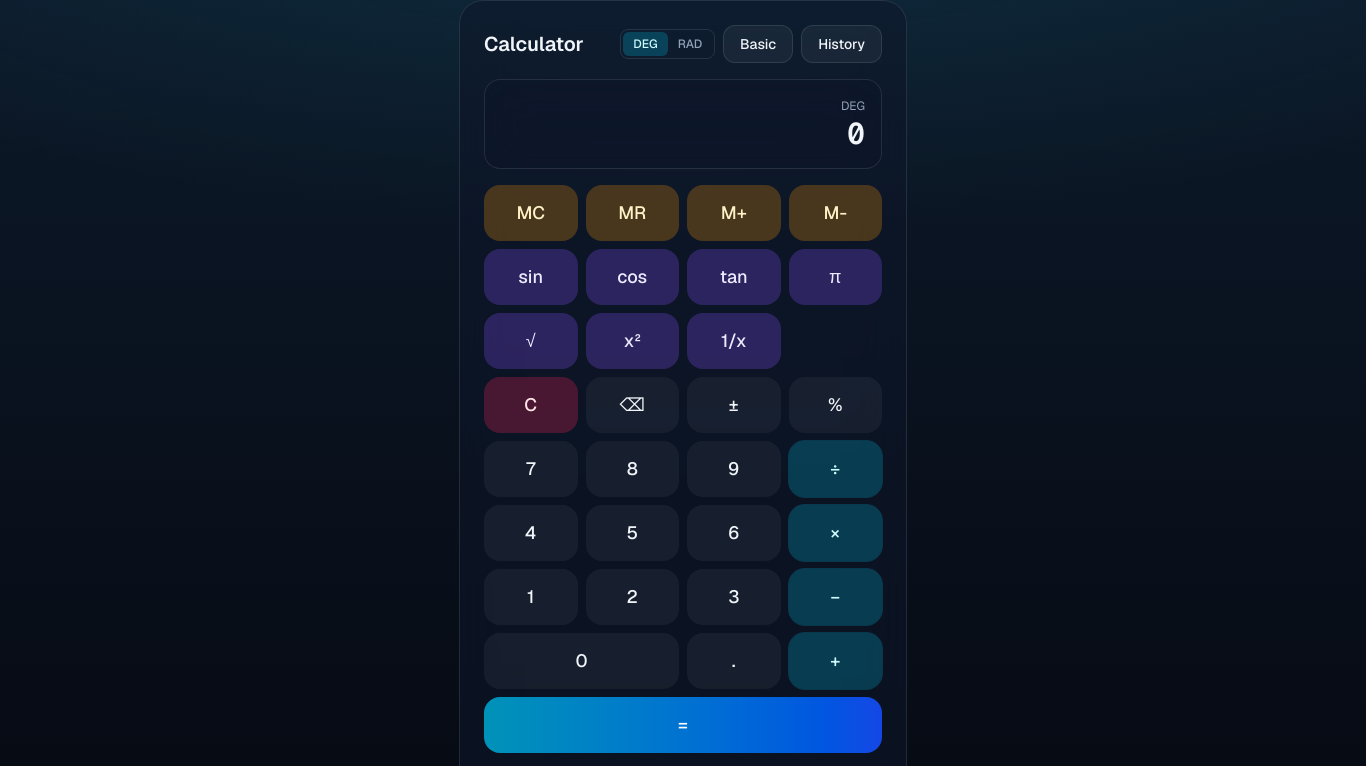
it: Calculator › shows error on division by zero
Click the button "8": (632, 469) [586, 441, 679, 497]
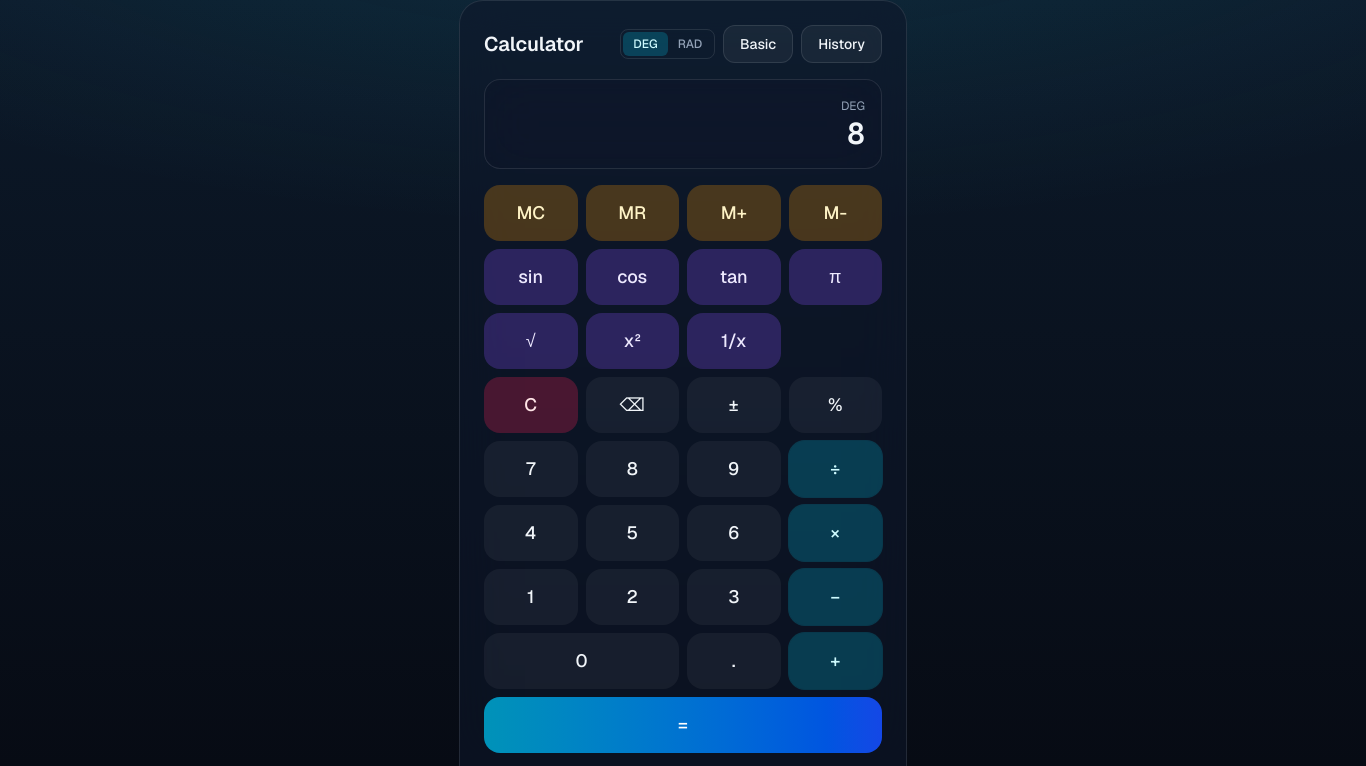
Click the button "÷": (835, 469) [788, 441, 882, 497]
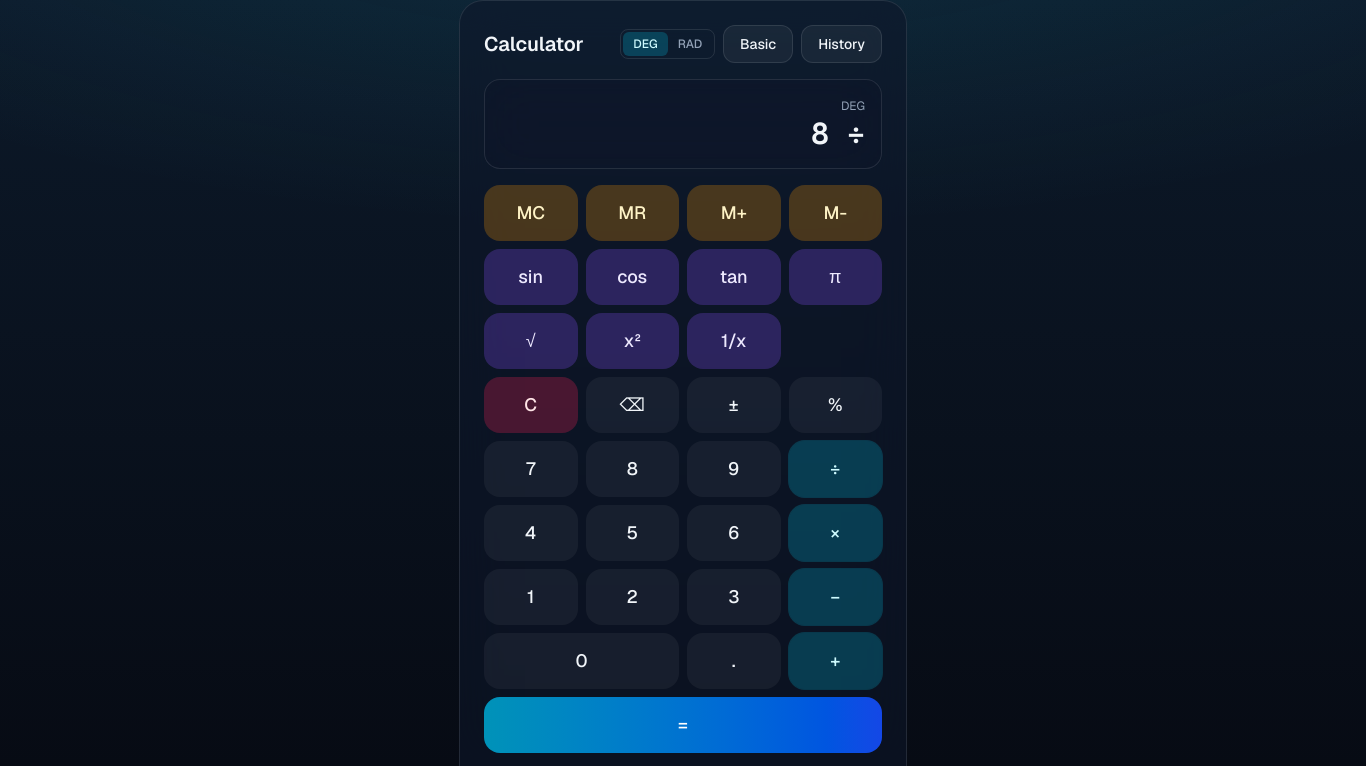
Click the button "0": (582, 661) [484, 633, 679, 689]
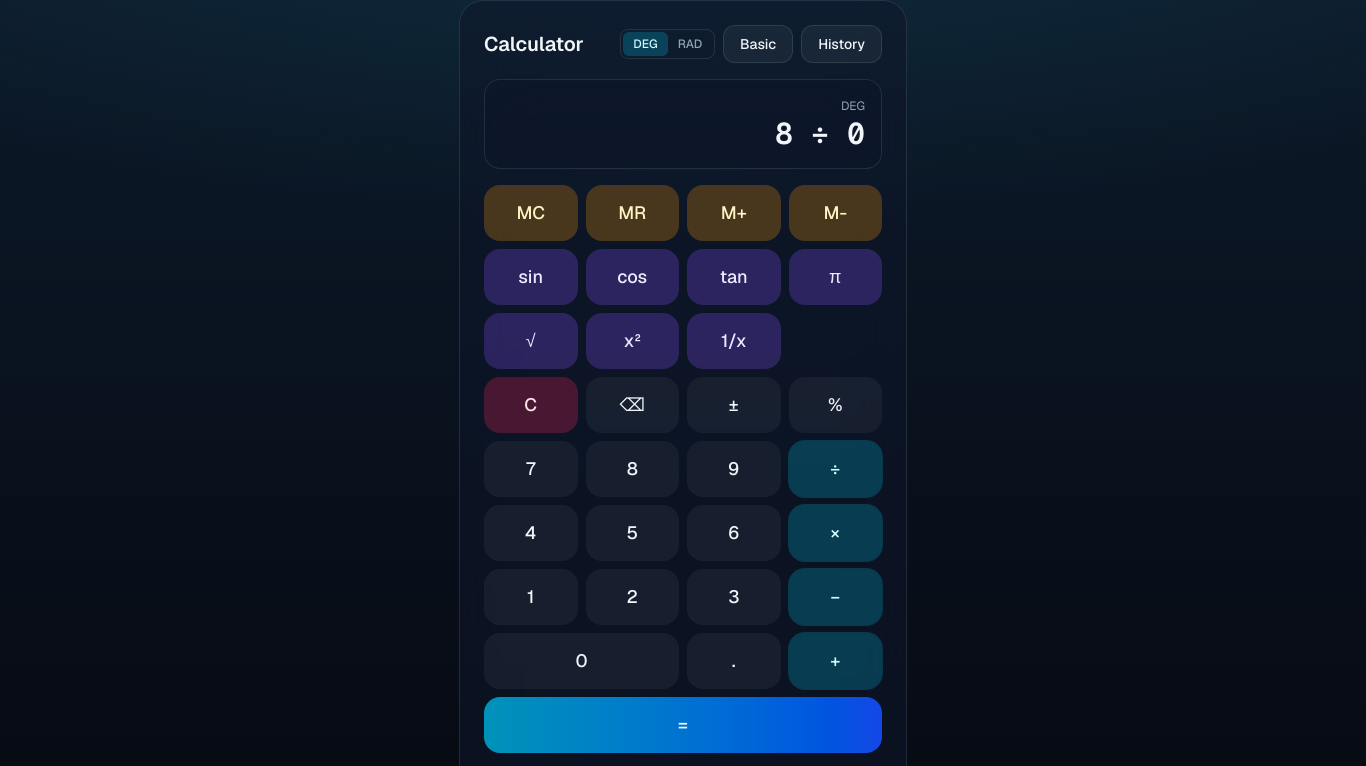
Click the button "=": (683, 725) [484, 697, 882, 753]
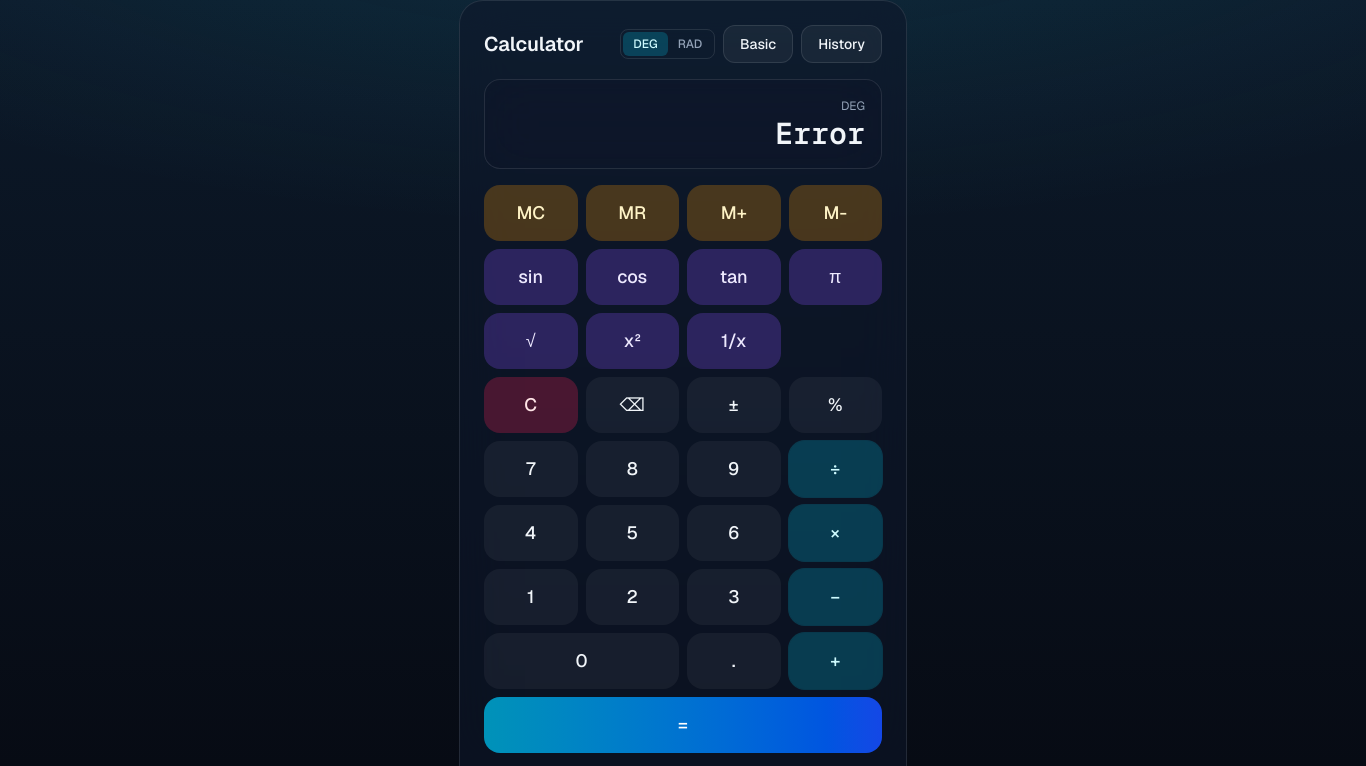
Expected: the text "Error" is shown, [775, 114, 865, 153]
